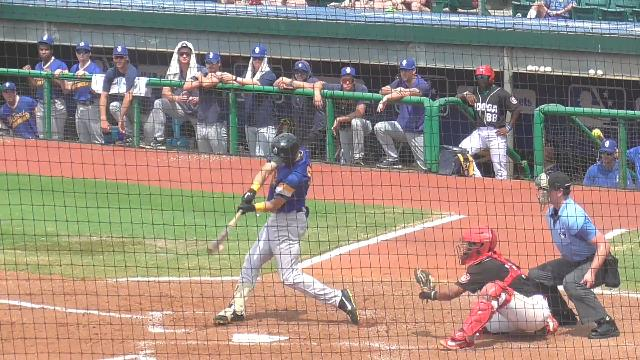bat: (208, 209, 242, 255)
